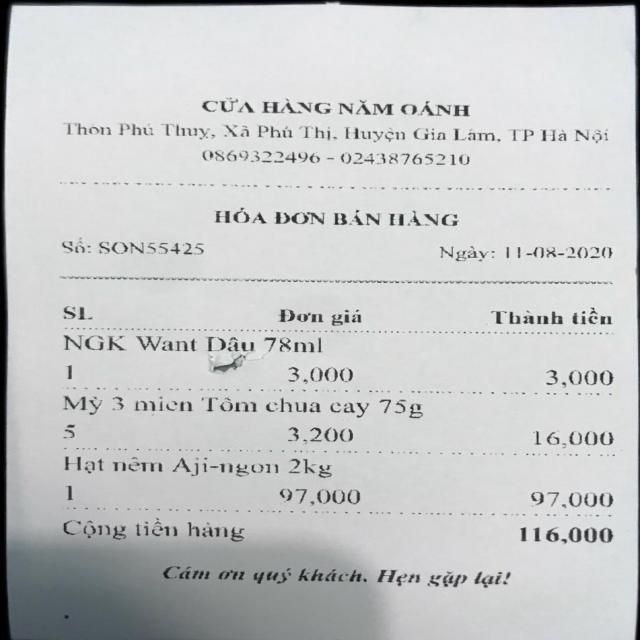Date: (498, 236, 612, 266)
Store_Name: (188, 96, 492, 122)
amount_number: (496, 518, 623, 548)
label_total: (46, 513, 258, 545)
